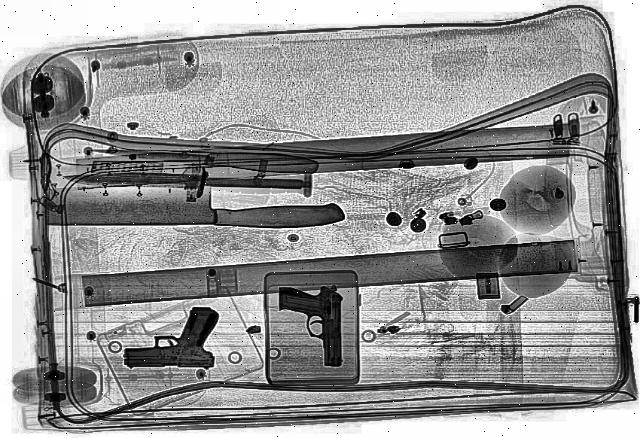Gun: (122, 307, 218, 367), (274, 284, 344, 366)
Knife: (43, 185, 345, 227), (89, 138, 319, 174), (62, 166, 302, 194)
